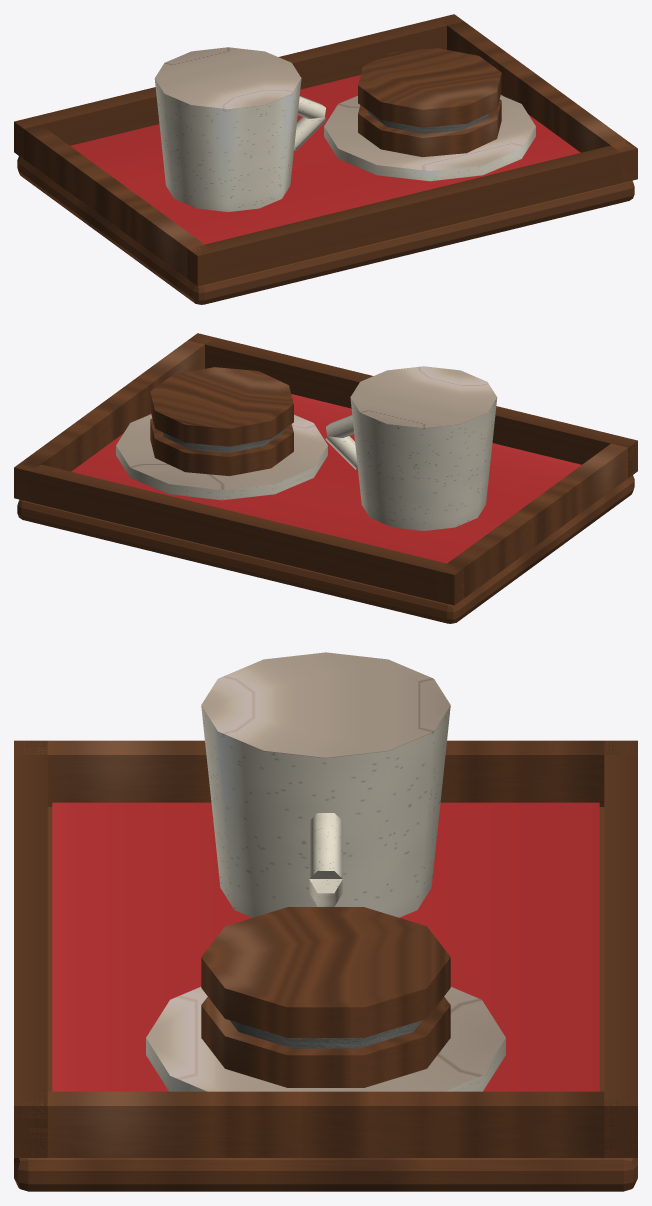
Rendered from tray-coffee.glb.
The picture shows the model from 3 angles, top to bottom: view 1: azimuth 30°, elevation 25°; view 2: azimuth 150°, elevation 25°; view 3: azimuth 270°, elevation 25°; orthographic projection. The views are drawn at different scales.
Visible parts, largest first — view 1: tray-coffee; view 2: tray-coffee; view 3: tray-coffee.
Boxes of the visible parts, x1,y1,x2,y2 form: tray-coffee: [14, 14, 637, 304]; tray-coffee: [14, 333, 637, 623]; tray-coffee: [14, 652, 637, 1191].
Size of the model in its own units: 0.036 by 0.0105 by 0.026.
1 material, 1 textured.
